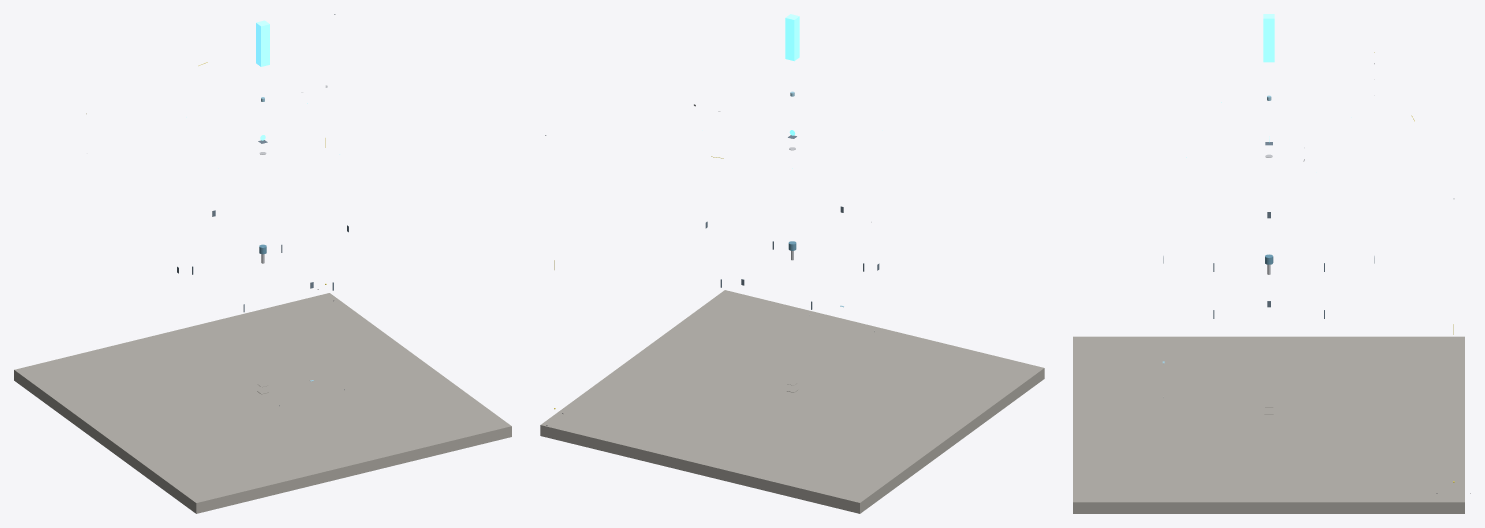
File: qa-center.glb
The picture shows the model from 3 angles, left to right: view 1: azimuth 30°, elevation 25°; view 2: azimuth 150°, elevation 25°; view 3: azimuth 270°, elevation 25°; orthographic projection. The views are drawn at different scales.
Visible parts, largest first — view 1: QA_Pad, QA_Spire; view 2: QA_Pad, QA_Spire; view 3: QA_Pad, QA_Spire.
Boxes of the visible parts, x1,y1,x2,y2 form: QA_Pad: (14, 293, 511, 513); QA_Spire: (256, 20, 269, 66); QA_Pad: (540, 290, 1044, 513); QA_Spire: (785, 14, 799, 61); QA_Pad: (1073, 336, 1464, 513); QA_Spire: (1263, 14, 1274, 62).
Size of the model in its own units: 9.77 by 11.39 by 9.91.
